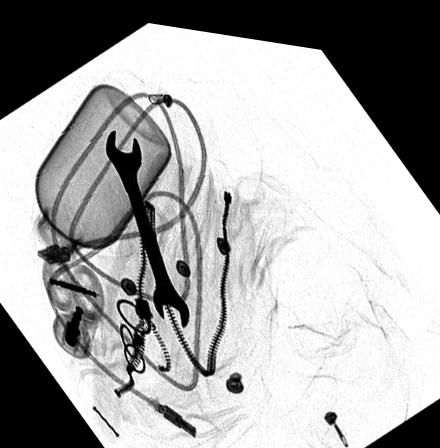Wrench: (104, 125, 192, 324)
